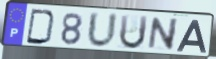8: (61, 12, 83, 46)
A: (175, 19, 208, 54)
D: (24, 8, 57, 47)
N: (146, 17, 180, 52)
U: (86, 11, 120, 50), (118, 14, 150, 51)
